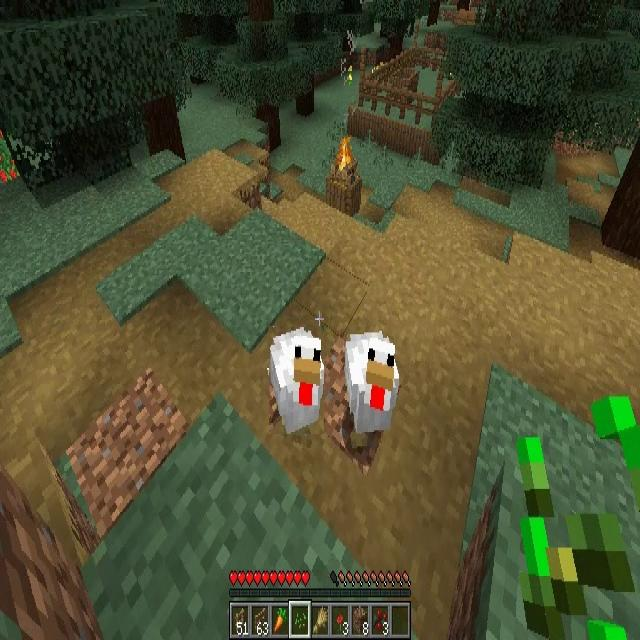duck: (269, 326, 324, 434), (345, 332, 400, 434)
